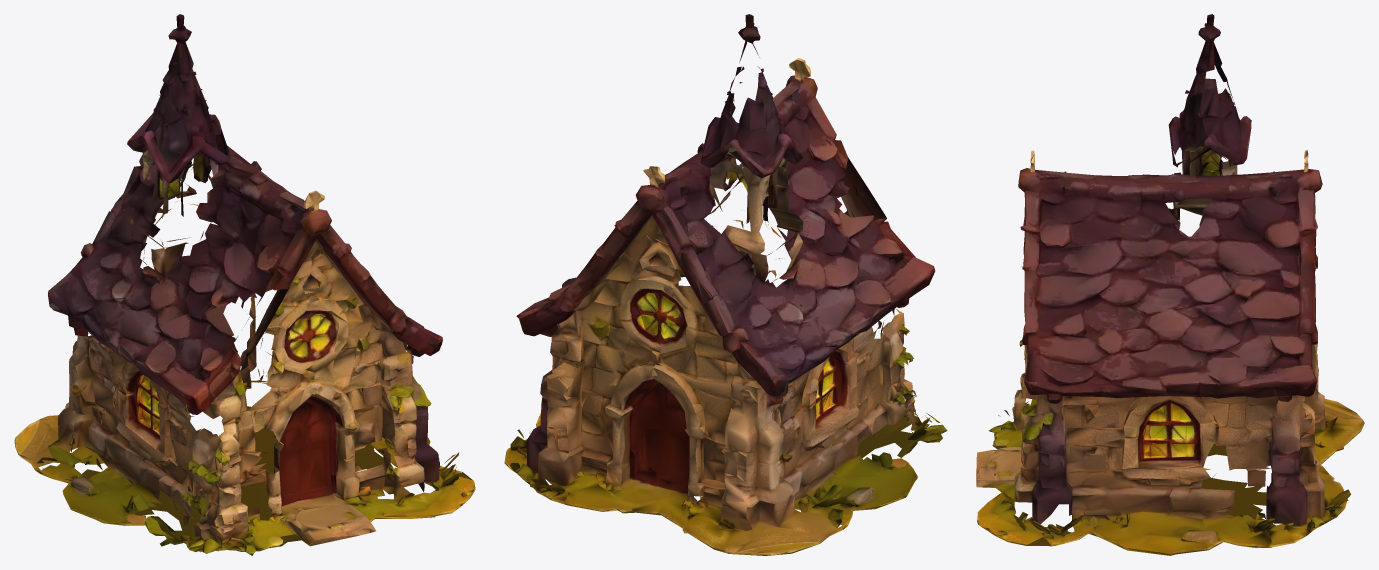
File: tripo-capela154.glb
3 renders of one model, left to right at view 1: azimuth 30°, elevation 25°; view 2: azimuth 150°, elevation 25°; view 3: azimuth 270°, elevation 25°, orthographic. The views are drawn at different scales.
Parts seen in each view (by area): view 1: tripo_node_c6a8566f-1fa9-4144-9fef-9efa7920ceae; view 2: tripo_node_c6a8566f-1fa9-4144-9fef-9efa7920ceae; view 3: tripo_node_c6a8566f-1fa9-4144-9fef-9efa7920ceae.
Part boxes in pixels (x1=…): tripo_node_c6a8566f-1fa9-4144-9fef-9efa7920ceae: x1=14, y1=14, x2=475, y2=555; tripo_node_c6a8566f-1fa9-4144-9fef-9efa7920ceae: x1=504, y1=14, x2=947, y2=555; tripo_node_c6a8566f-1fa9-4144-9fef-9efa7920ceae: x1=976, y1=14, x2=1364, y2=555.
Size of the model in its own units: 0.8007 by 0.9794 by 0.7891.
Materials: 1 (1 with a texture image).
